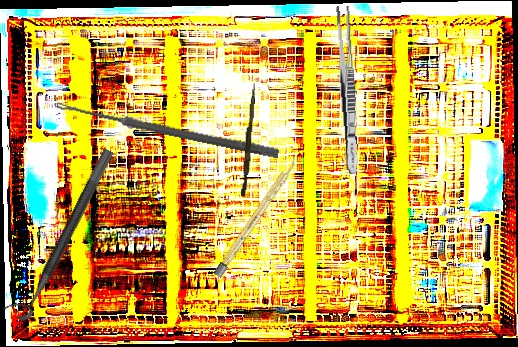Dressing Forceps: (333, 5, 362, 175)
Fixation Ring: (1, 140, 116, 324)
Pusher: (241, 82, 256, 197)
Scalpel Handle: (213, 156, 299, 279)
Surgical Spoon: (55, 100, 280, 159)
